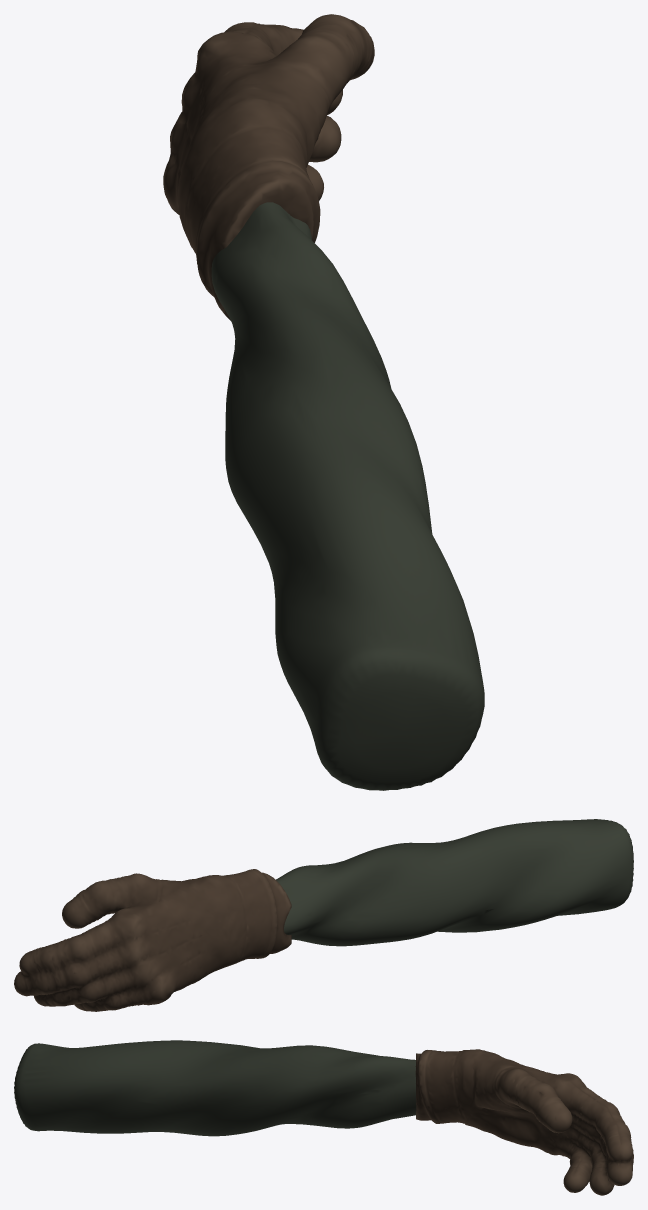
The model's file is fp_hand_L_relaxed.glb.
3 renders of one model, top to bottom at view 1: azimuth 30°, elevation 25°; view 2: azimuth 150°, elevation 25°; view 3: azimuth 270°, elevation 25°, orthographic. The views are drawn at different scales.
Parts seen in each view (by area): view 1: fp_hand_L_relaxed; view 2: fp_hand_L_relaxed; view 3: fp_hand_L_relaxed.
Part boxes in pixels (x1=…): fp_hand_L_relaxed: x1=163, y1=14, x2=484, y2=790; fp_hand_L_relaxed: x1=14, y1=819, x2=633, y2=1011; fp_hand_L_relaxed: x1=14, y1=1040, x2=633, y2=1195.
Size of the model in its own units: 0.3111 by 0.1544 by 0.5649.
